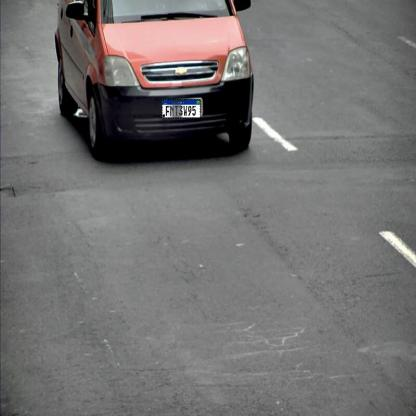PlacaM: (162, 99, 200, 119)
